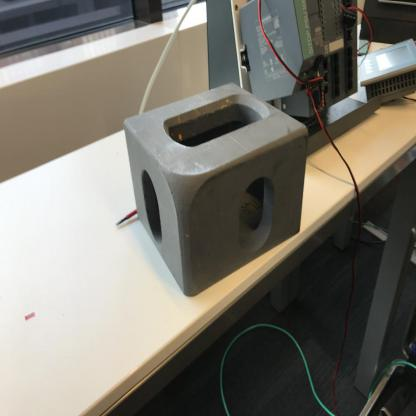CornerCasting: (120, 78, 311, 299)
